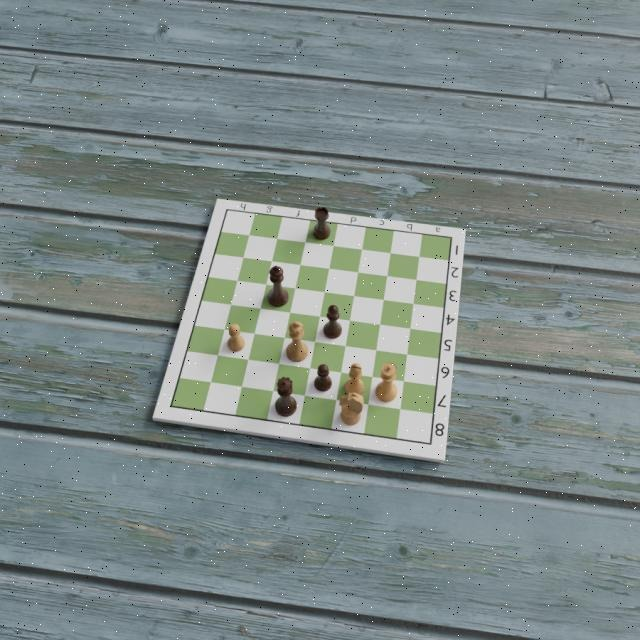black-bishop: (323, 304, 343, 339)
black-king: (267, 264, 289, 308)
black-pawn: (313, 364, 332, 392)
black-queen: (275, 375, 297, 418)
black-rook: (311, 206, 331, 241)
white-bishop: (343, 362, 366, 398)
white-king: (286, 319, 310, 363)
white-knight: (339, 392, 364, 427)
white-pawn: (226, 323, 246, 353)
white-queen: (374, 360, 397, 403)
